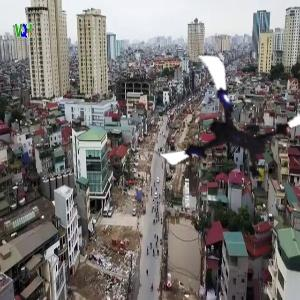drone: (157, 65, 292, 200)
